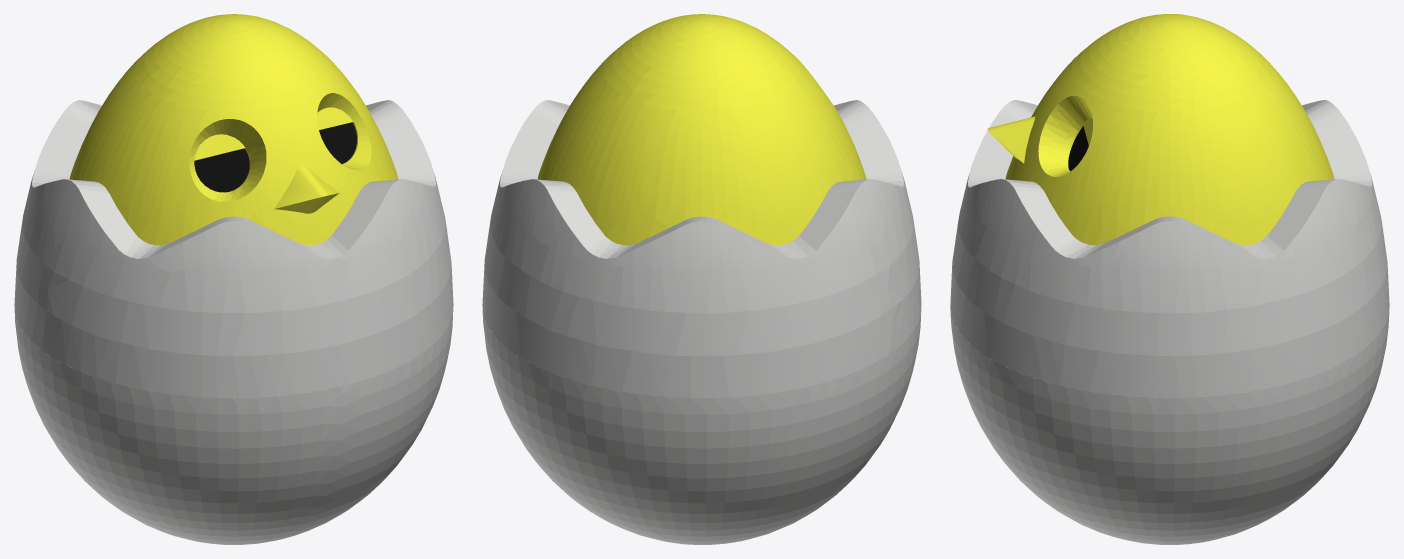
The model's file is NadeggMini.glb.
3 views of the same model, side by side, from view 1: azimuth 30°, elevation 25°; view 2: azimuth 150°, elevation 25°; view 3: azimuth 270°, elevation 25° (orthographic).
Parts seen in each view (by area): view 1: NadeggMini; view 2: NadeggMini; view 3: NadeggMini.
Part boxes in pixels (box(x1,y1,x2,y2)): NadeggMini: box(14, 14, 453, 544); NadeggMini: box(482, 14, 921, 544); NadeggMini: box(950, 14, 1389, 544).
Size of the model in its own units: 0.045 by 0.057 by 0.045.
